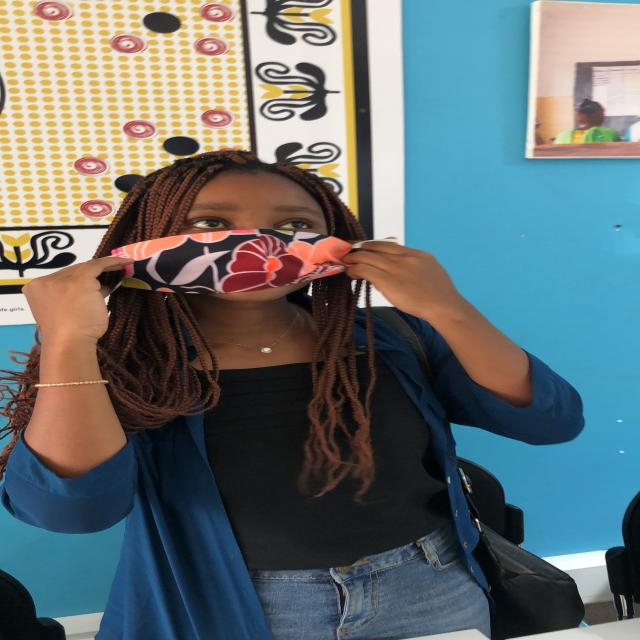no-mask: (135, 173, 364, 306)
